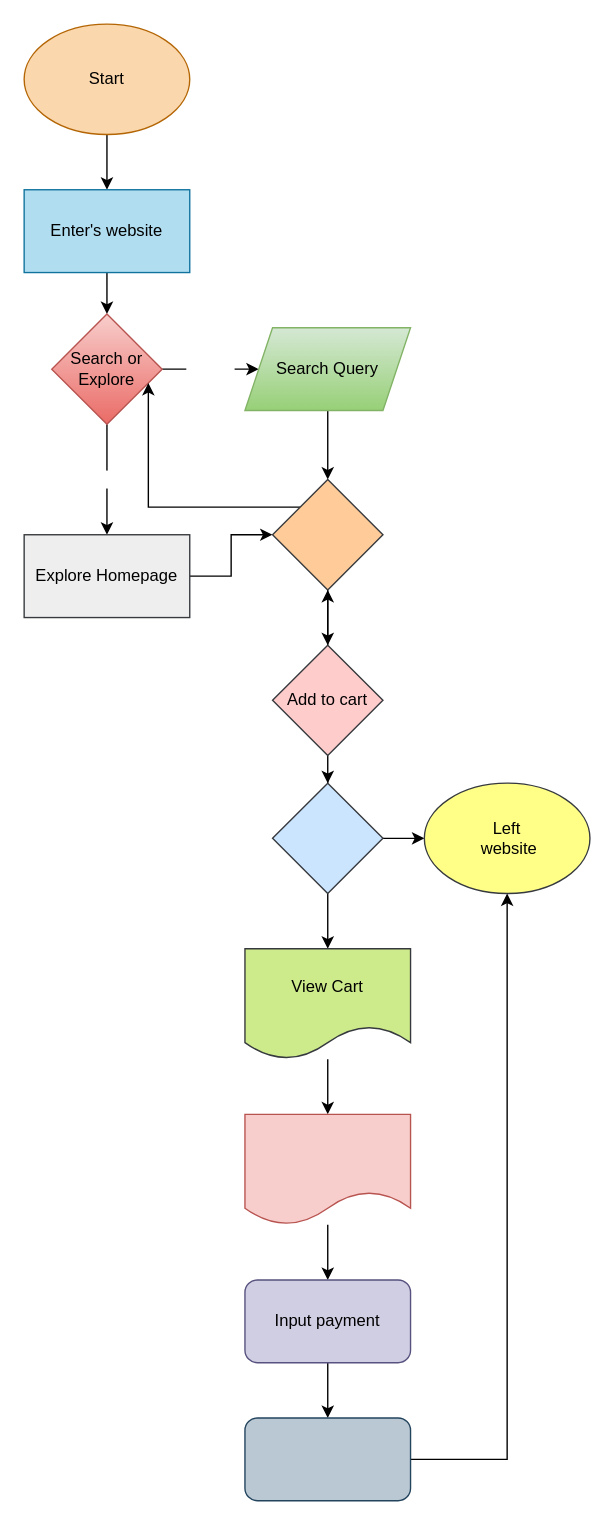
Image size: 614x1525. Some labels were removed from this diagram. The centre of each missing label's shape, as x and y in pixels:
Checkout: (x=327, y=838)
Continue Shopping: (x=327, y=534)
Order confirmation and email: (x=327, y=1459)
View payment: (x=327, y=1169)
